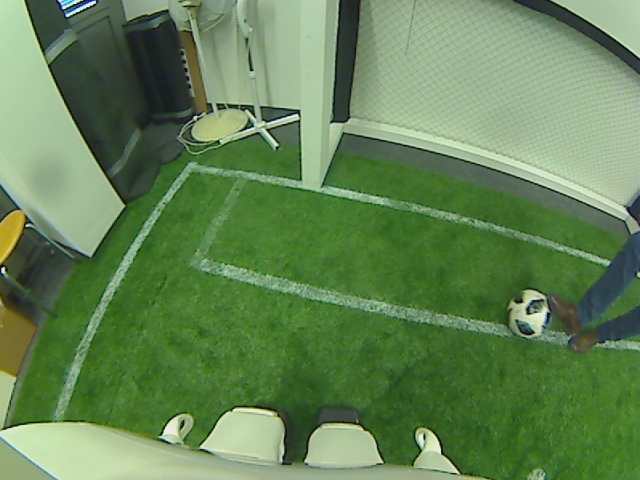ball: (504, 290, 553, 339)
